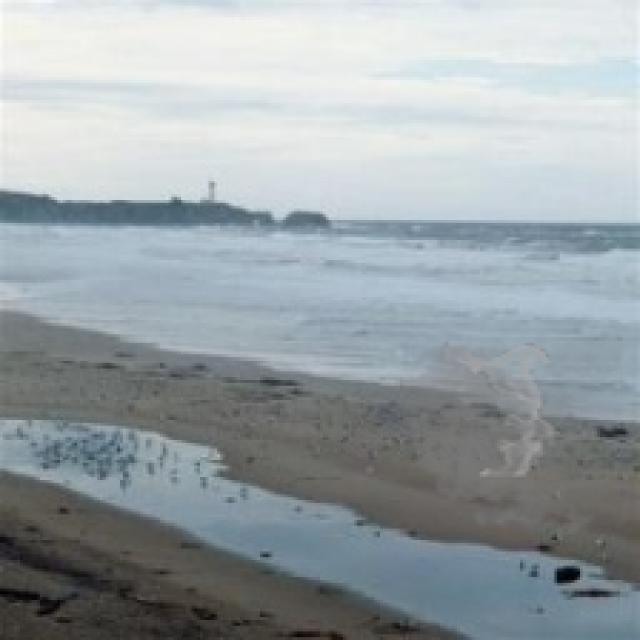smoke: (380, 337, 623, 540)
